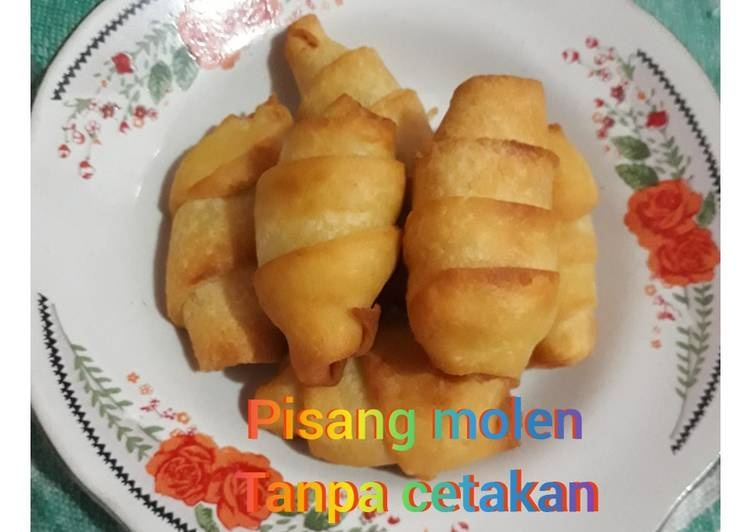pisang_molen: (402, 74, 558, 380), (251, 91, 405, 385)
